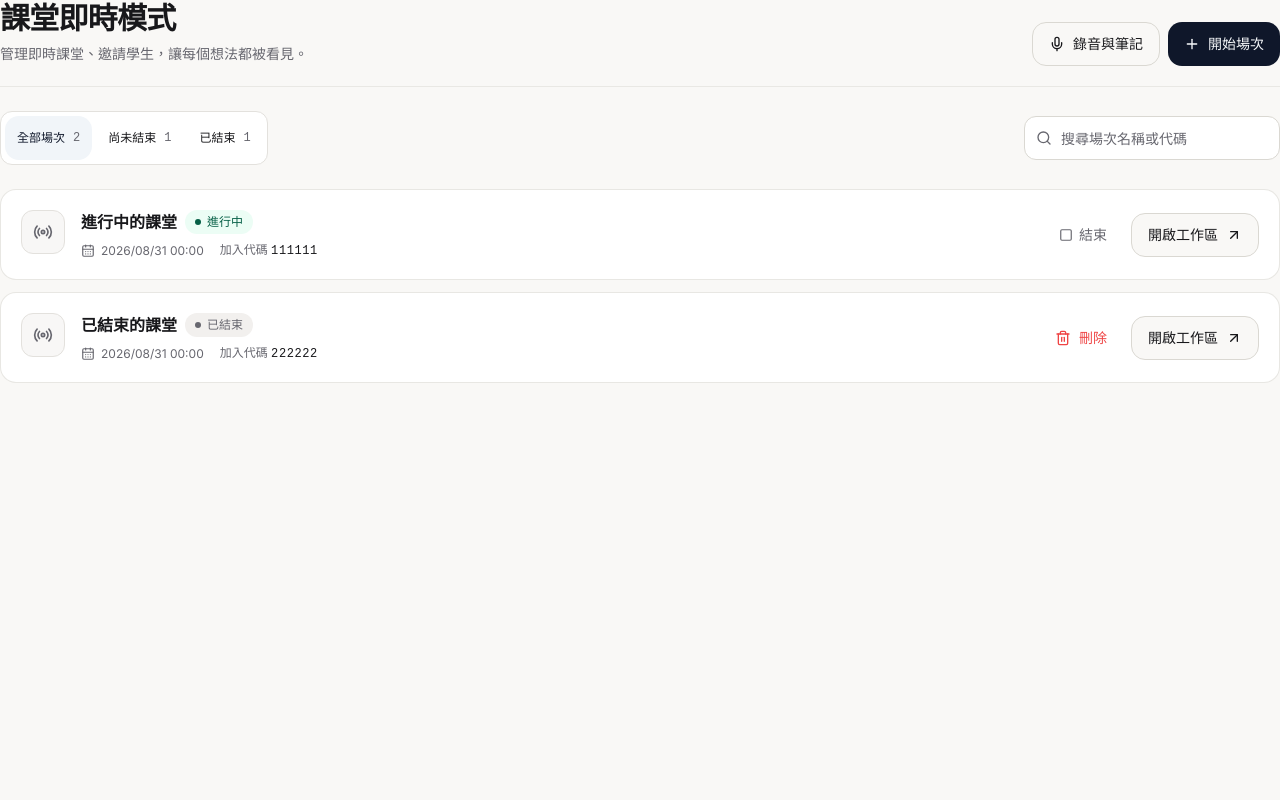
Test: session deletion and immediate reactions › only offers deletion for closed sessions, keeps rows on failure, removes after success
Check: the heading "已結束的課堂" is shown, box [81,313,177,337]
Click the button "刪除". click: (1081, 338)
box: [1039,316,1123,360]
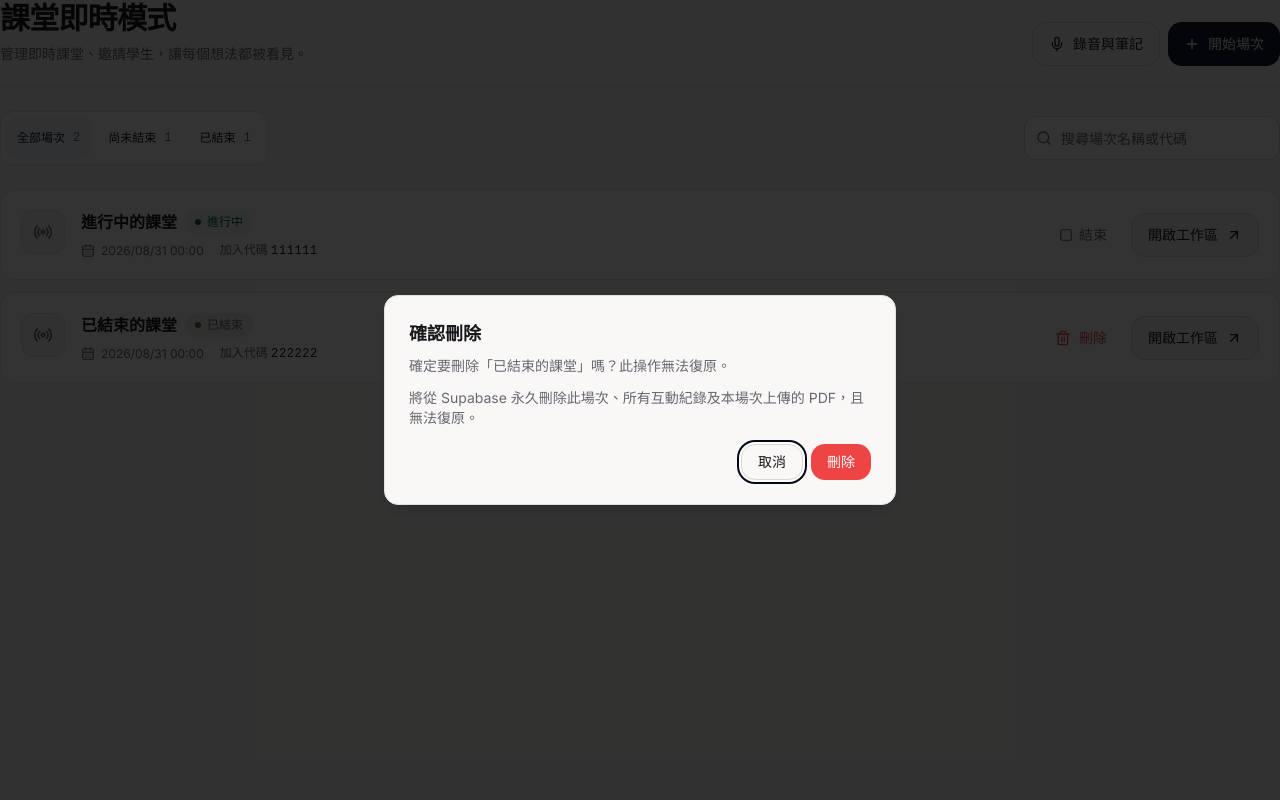
Check: the dialog shows "Supabase", box [409,389,864,426]
Click the button "刪除". click: (841, 462)
box: [811,444,871,480]
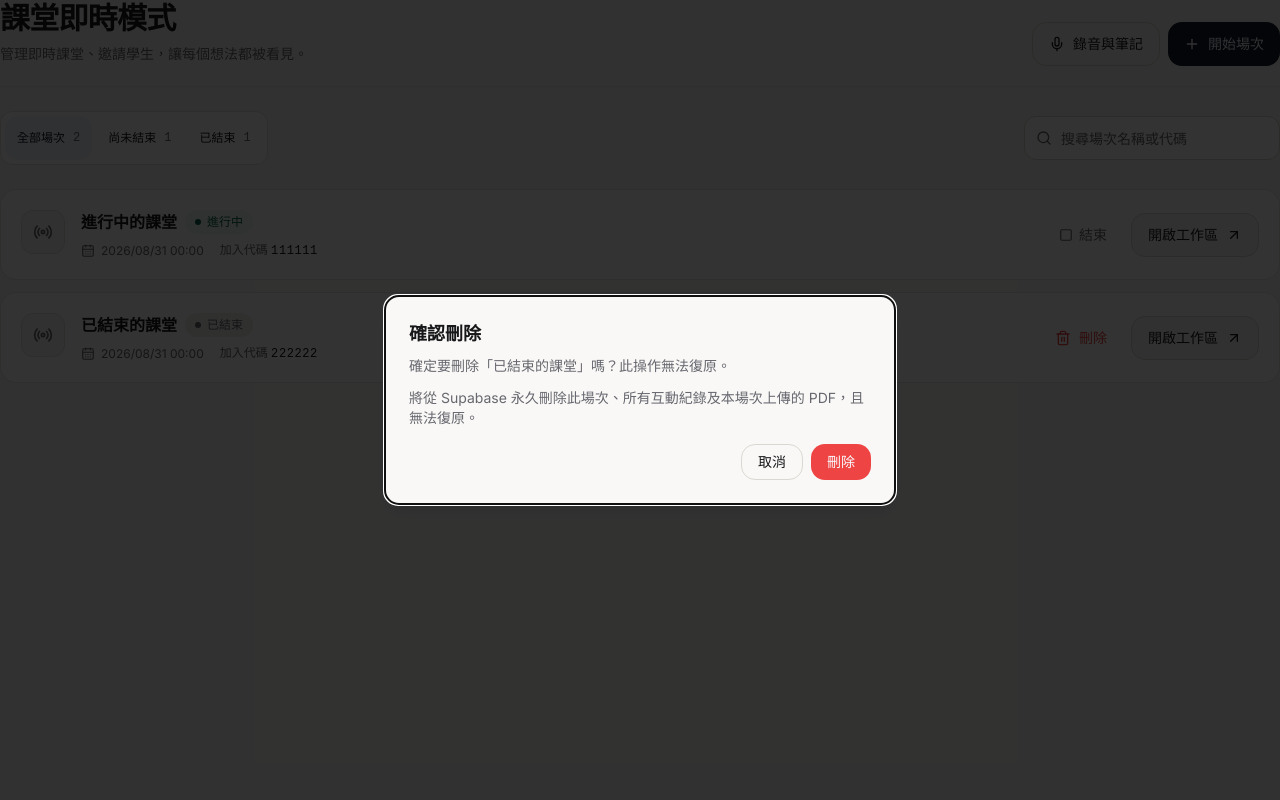
Check: the heading "已結束的課堂" is shown, box [81,313,177,337]
Click the button "刪除". click: (841, 462)
box: [811,444,871,480]
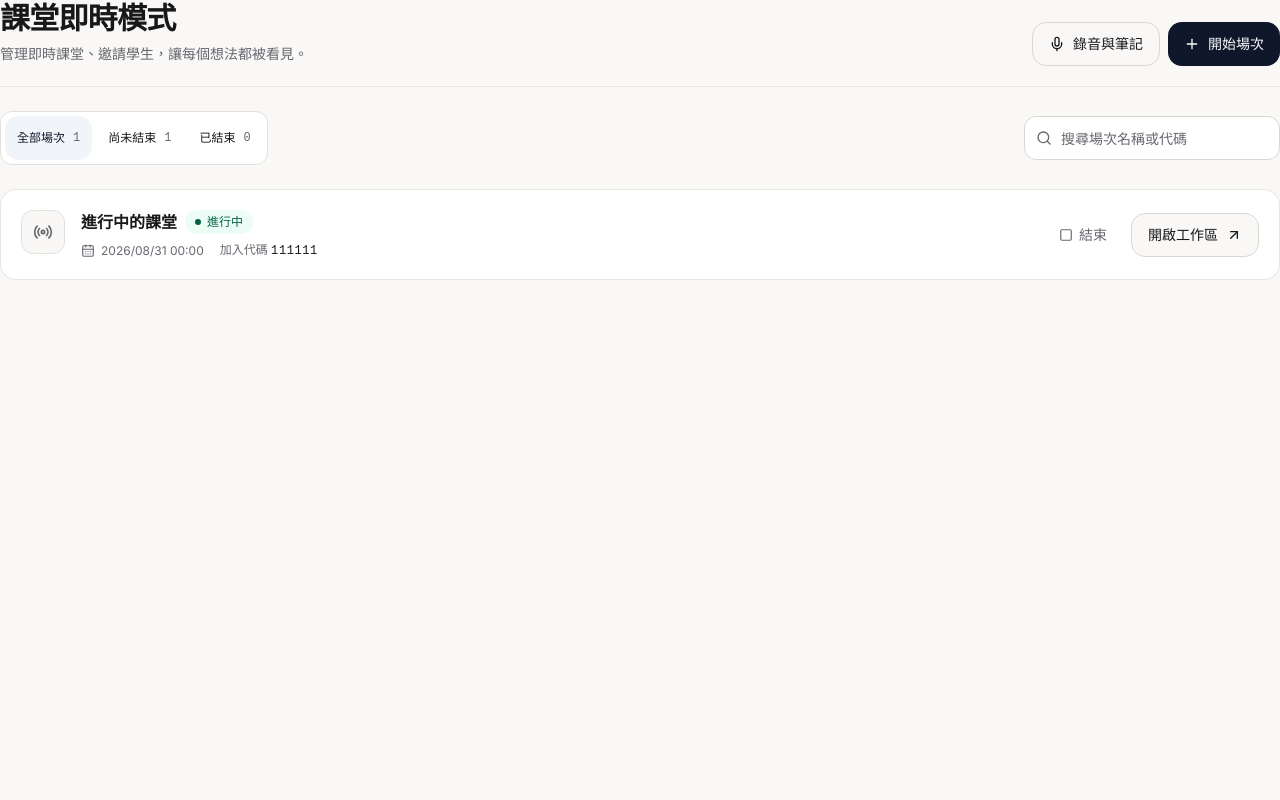
Check: the heading "進行中的課堂" is shown, box [81,210,177,234]
Check: the heading "已結束的課堂" is gone
